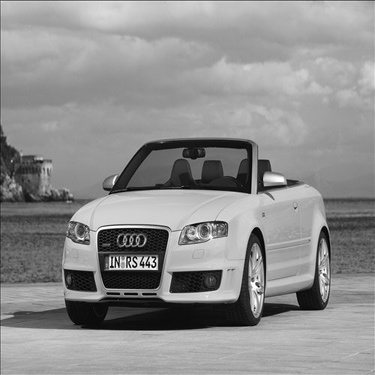car: (54, 128, 338, 327)
